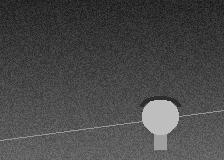no_helmet: (142, 96, 178, 139)
